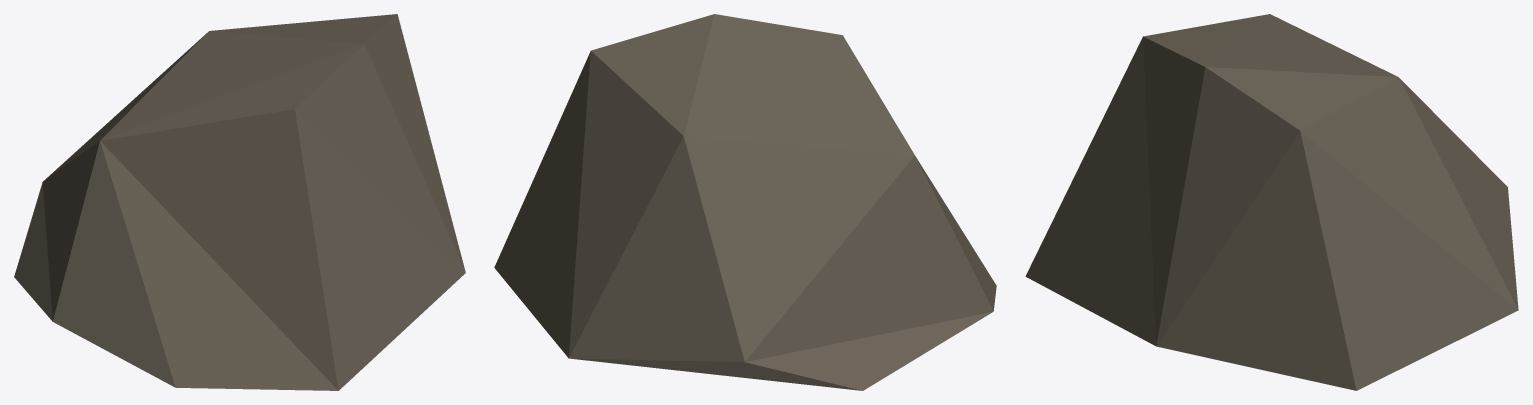
The model's file is SmallRock_3.fbx.
3 renders of one model, left to right at view 1: azimuth 30°, elevation 25°; view 2: azimuth 150°, elevation 25°; view 3: azimuth 270°, elevation 25°, orthographic. The views are drawn at different scales.
Parts seen in each view (by area): view 1: SmallRock_3; view 2: SmallRock_3; view 3: SmallRock_3.
Boxes of the visible parts, <box> form: SmallRock_3: <box>14,14,465,390</box>; SmallRock_3: <box>494,14,996,390</box>; SmallRock_3: <box>1025,14,1518,390</box>.
Size of the model in its own units: 16.41 by 9.02 by 15.13.
